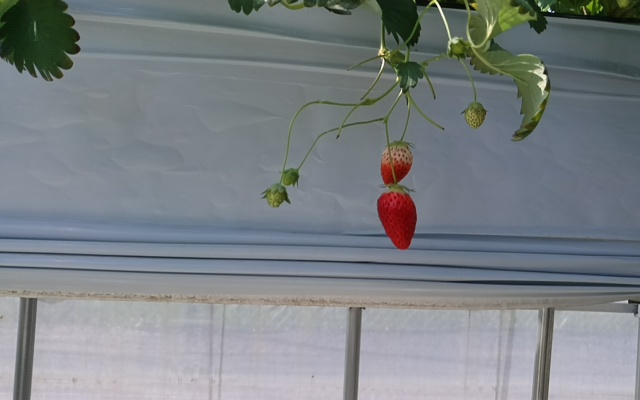GreenStrawberry: (463, 102, 487, 132)
MatureStrawberry: (374, 186, 420, 252), (377, 138, 414, 188)
